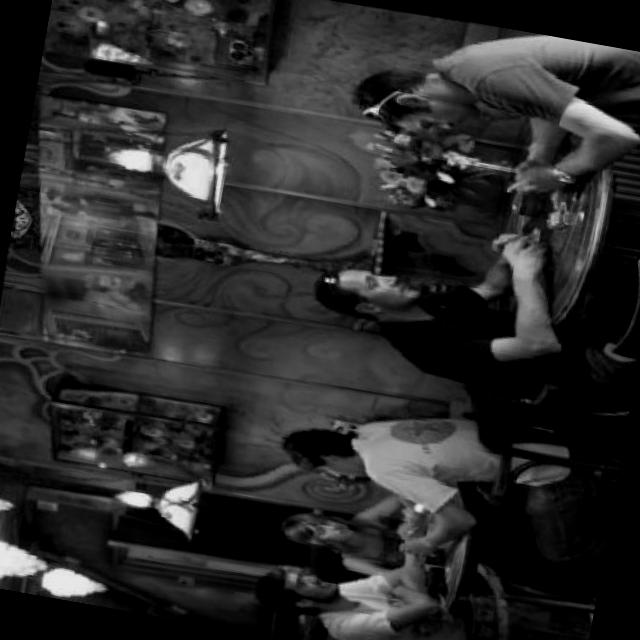cigarette: (502, 174, 522, 192)
